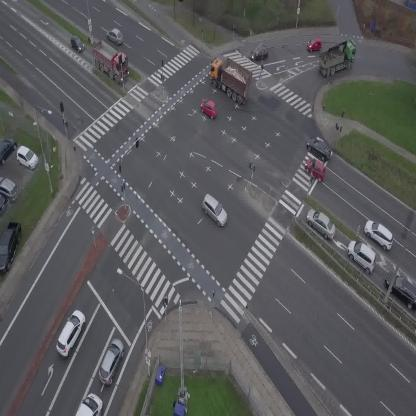car: (51, 307, 90, 358), (94, 336, 128, 387), (341, 236, 383, 275), (301, 205, 341, 242), (196, 192, 233, 229), (360, 217, 399, 252), (304, 134, 335, 163), (301, 155, 330, 183), (197, 96, 222, 121), (104, 25, 127, 47), (66, 33, 87, 55), (250, 46, 269, 61), (307, 37, 321, 52)
lorry: (200, 51, 260, 106), (83, 35, 137, 86), (314, 37, 363, 78), (75, 393, 102, 416)
